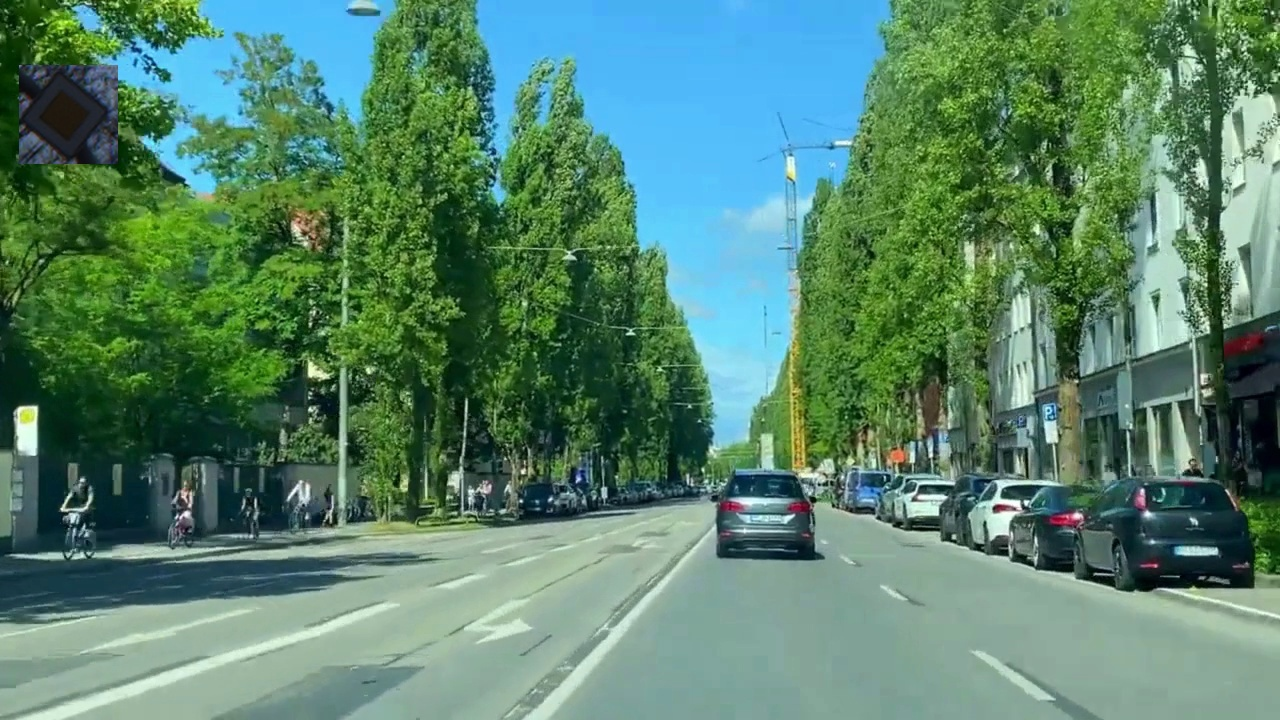Priority road: (19, 65, 118, 164)
